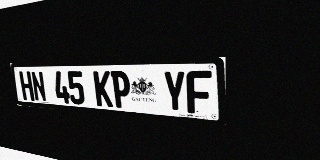4: (53, 71, 71, 104)
5: (67, 71, 85, 105)
F: (186, 71, 212, 115)
H: (19, 71, 35, 101)
K: (93, 71, 113, 107)
N: (30, 71, 47, 102)
P: (110, 71, 132, 109)
Y: (162, 71, 187, 113)
